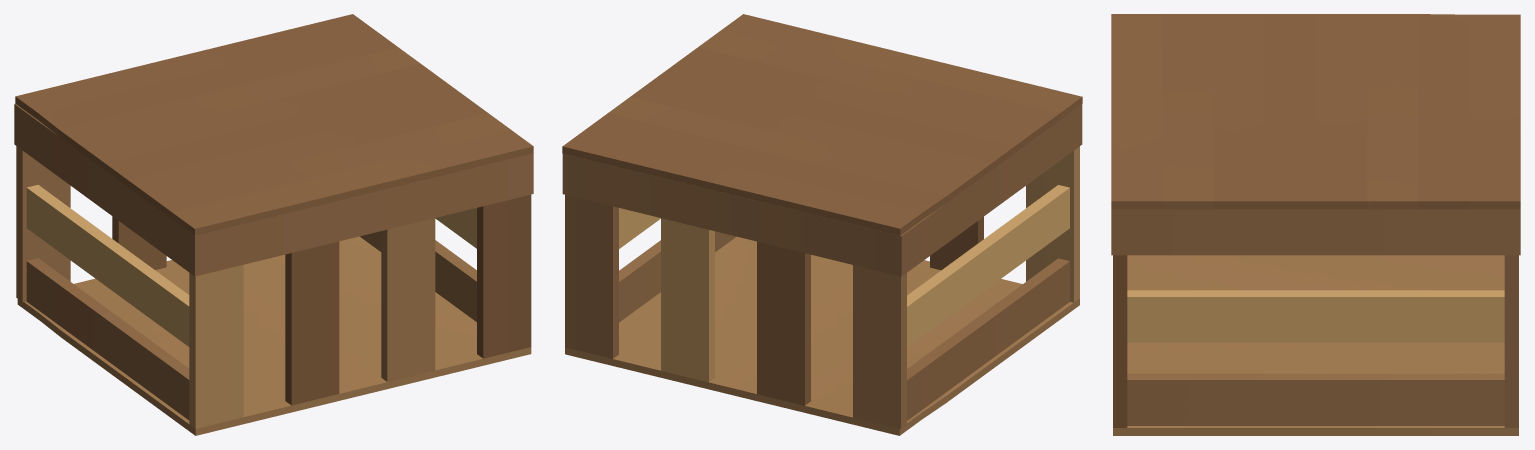
File: Med Light Crate Closed.fbx
3 renders of one model, left to right at view 1: azimuth 30°, elevation 25°; view 2: azimuth 150°, elevation 25°; view 3: azimuth 270°, elevation 25°, orthographic. The views are drawn at different scales.
Visible parts, largest first — view 1: Med Light Crate Closed; view 2: Med Light Crate Closed; view 3: Med Light Crate Closed.
Boxes of the visible parts, x1,y1,x2,y2 form: Med Light Crate Closed: [14, 14, 533, 435]; Med Light Crate Closed: [562, 14, 1082, 435]; Med Light Crate Closed: [1111, 14, 1520, 435].
Size of the model in its own units: 122 by 192 by 208.
1 material, 1 textured.
